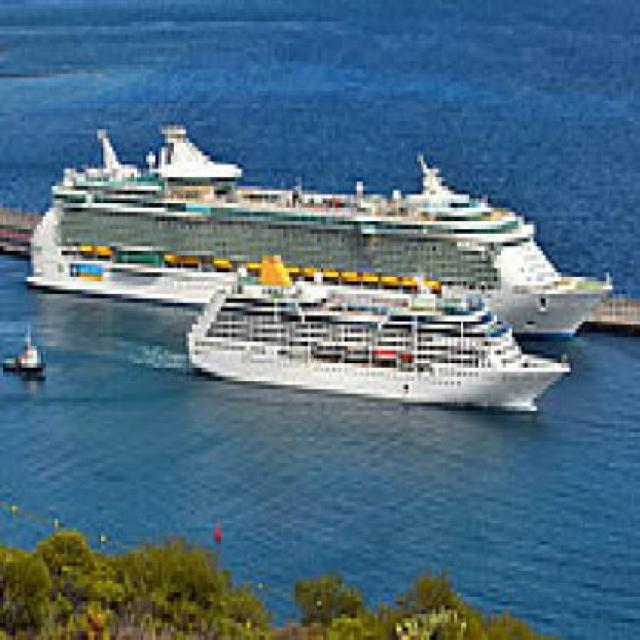cruise: (19, 122, 614, 351), (177, 247, 583, 429)
